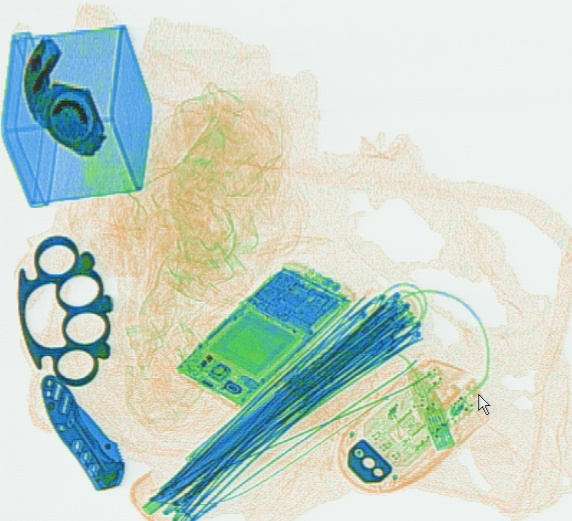knife: (36, 370, 124, 490)
